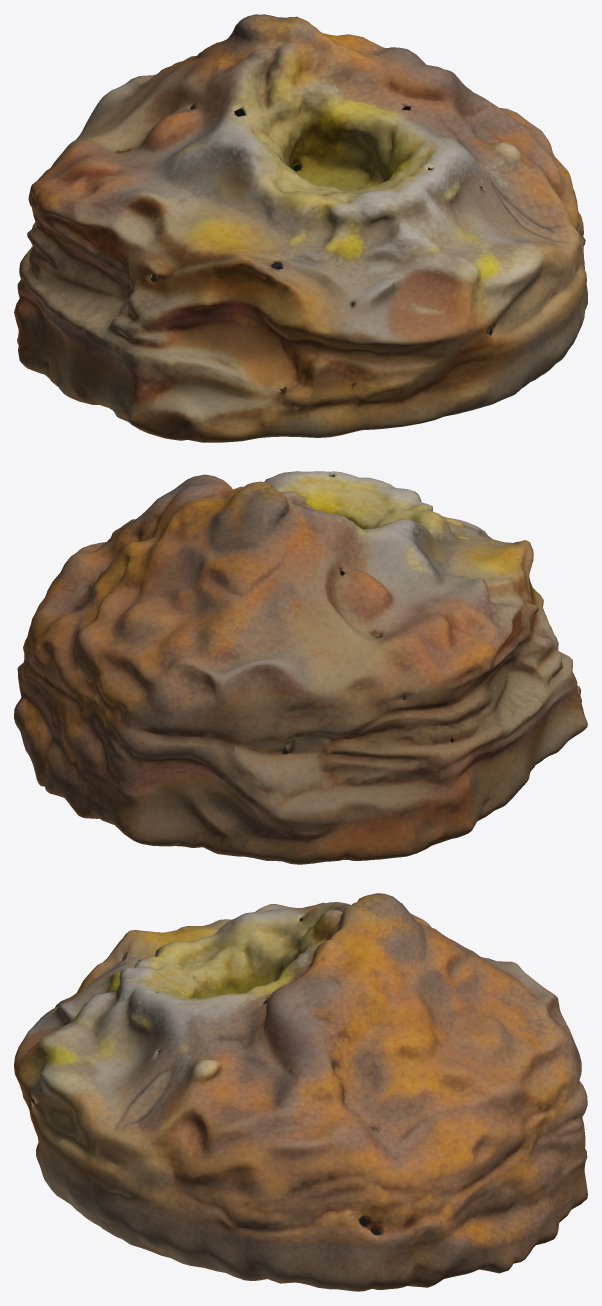
The picture shows the model from 3 angles, top to bottom: view 1: azimuth 30°, elevation 25°; view 2: azimuth 150°, elevation 25°; view 3: azimuth 270°, elevation 25°; orthographic projection. The views are drawn at different scales.
Visible parts, largest first — view 1: world; view 2: world; view 3: world.
Part boxes in pixels (left/top/right/bottom): world: left=14, top=14, right=587, bottom=442; world: left=14, top=471, right=587, bottom=864; world: left=14, top=893, right=587, bottom=1291.
Bounding box in the file's own units: 4.04 × 2.48 × 4.22.
Materials: 1 (1 with a texture image).
